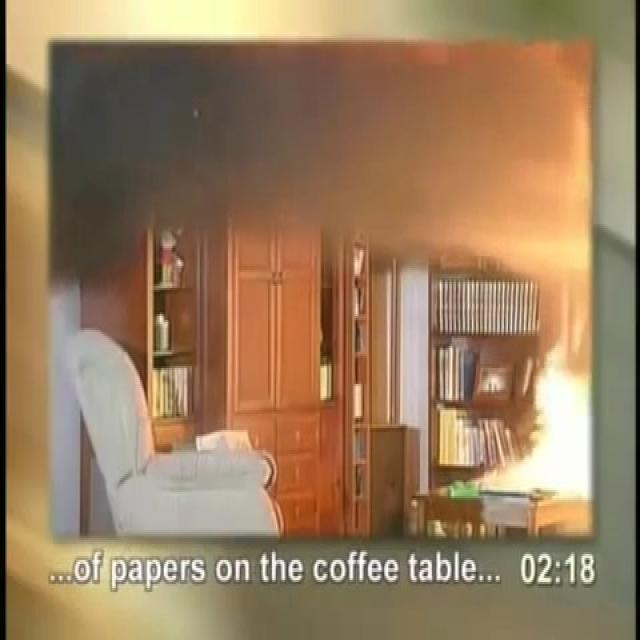Fire: (458, 262, 610, 544)
